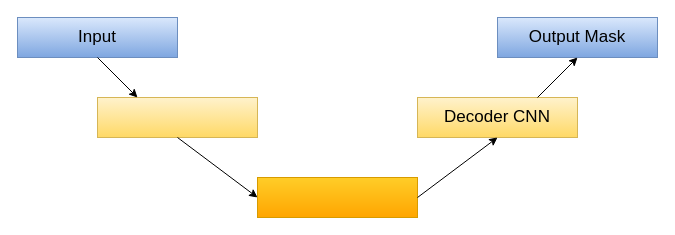
Image size: 675x235. Some labels were removed from this diagram. Here are the shapes that lost their labels. From the top down, the centre of each, then its label:
[177,117]: Encoder CNN
[337,197]: Extracted features
